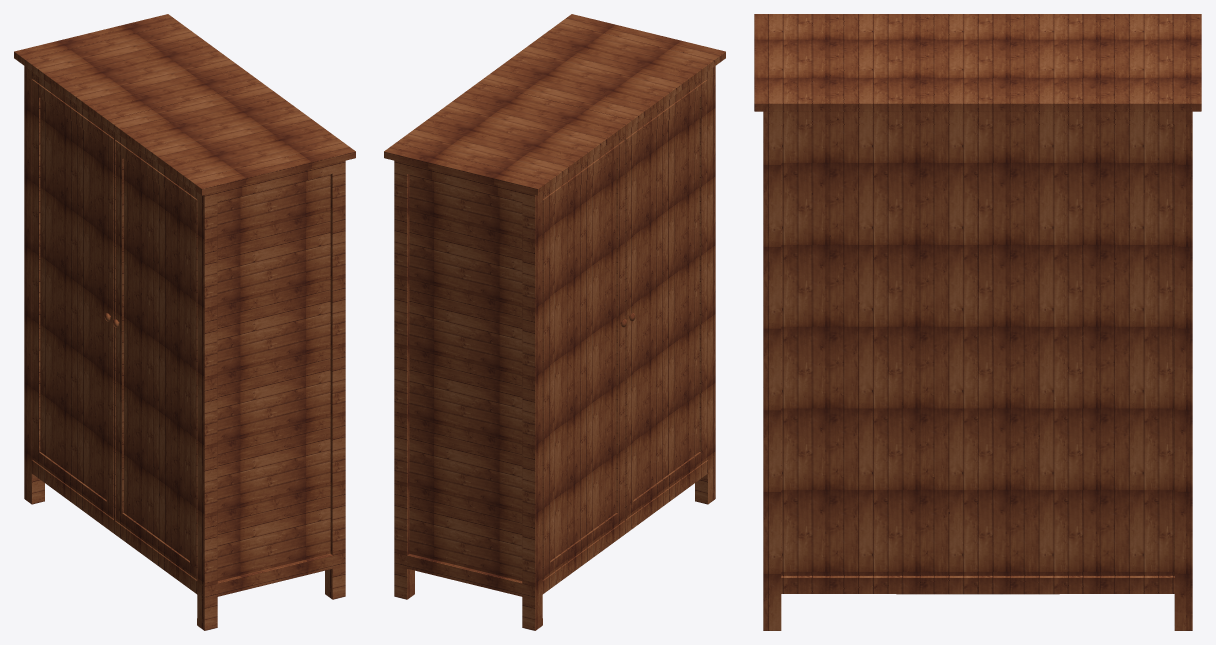
Rendered from closet.obj.
The picture shows the model from 3 angles, left to right: view 1: azimuth 30°, elevation 25°; view 2: azimuth 150°, elevation 25°; view 3: azimuth 270°, elevation 25°; orthographic projection. The views are drawn at different scales.
Parts seen in each view (by area): view 1: closet; view 2: closet; view 3: closet.
Part boxes in pixels (x1=…): closet: x1=14, y1=14, x2=355, y2=630; closet: x1=384, y1=14, x2=725, y2=630; closet: x1=754, y1=14, x2=1201, y2=630.
Bounding box in the file's own units: 18.5 × 51.18 × 39.04.
Materials: 1 (1 with a texture image).
